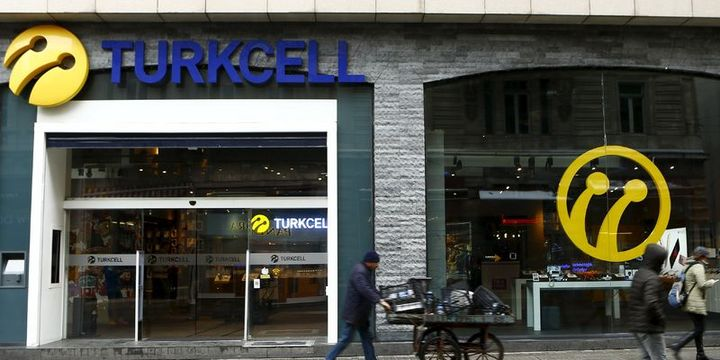turkcell: (554, 136, 671, 262), (3, 24, 93, 107)
